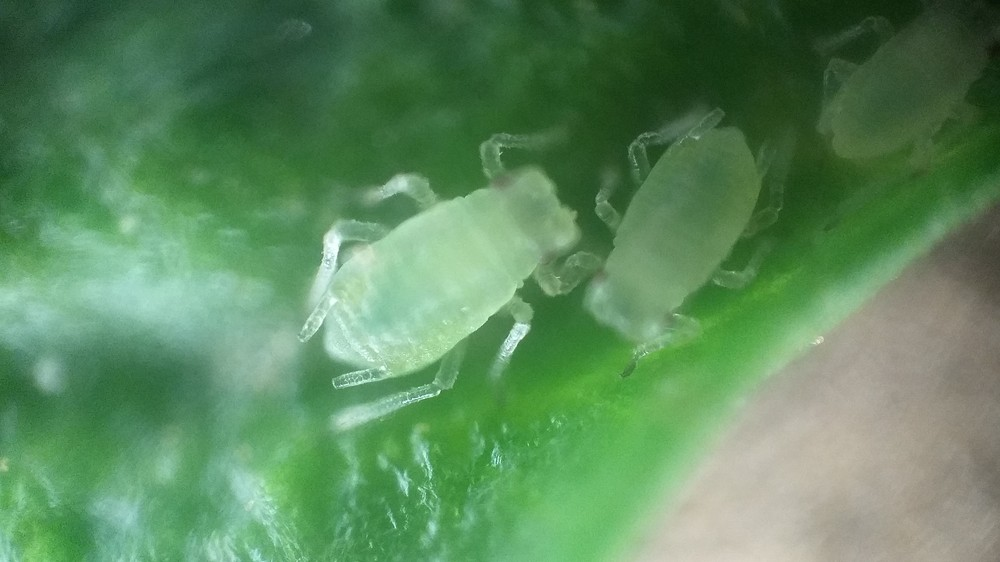Pulgon: (277, 111, 599, 437), (576, 90, 830, 390), (799, 3, 1000, 188)
